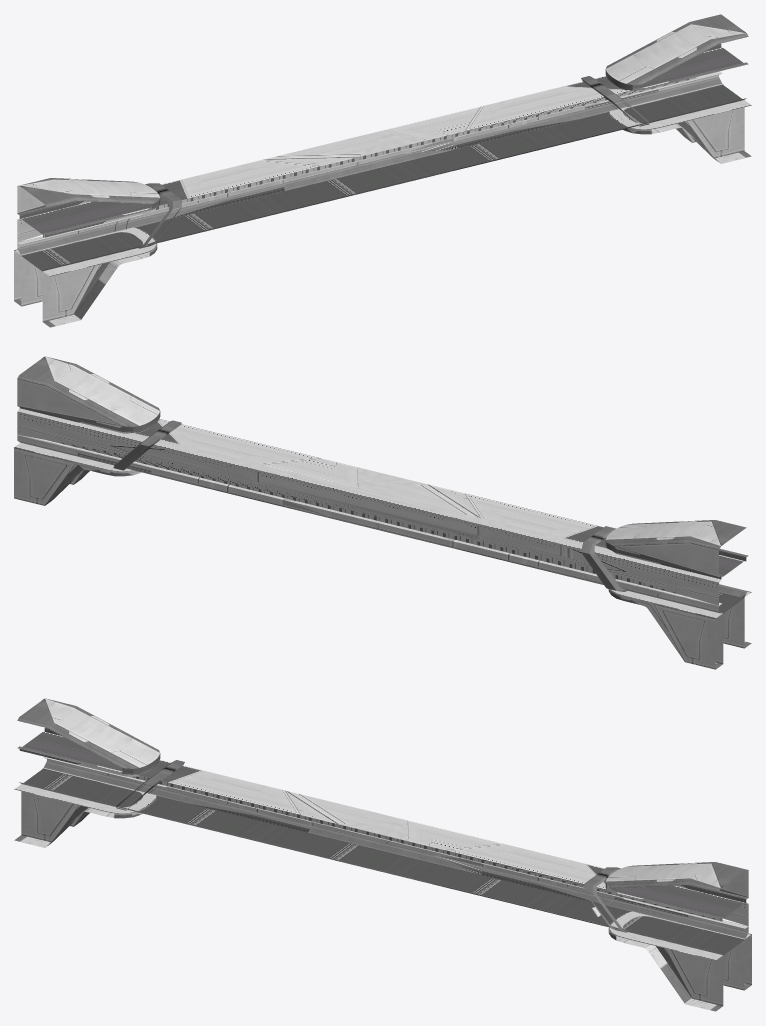
File: PRS_VISTABRlow.FBX
The picture shows the model from 3 angles, top to bottom: view 1: azimuth 30°, elevation 25°; view 2: azimuth 150°, elevation 25°; view 3: azimuth 330°, elevation 25°; orthographic projection.
Parts seen in each view (by area): view 1: PRS_VISTABRlow; view 2: PRS_VISTABRlow; view 3: PRS_VISTABRlow.
Boxes of the visible parts, x1,y1,x2,y2 form: PRS_VISTABRlow: (14,14,751,327); PRS_VISTABRlow: (14,356,751,669); PRS_VISTABRlow: (14,698,751,1011).
Size of the model in its own units: 360 by 58.53 by 32.18.
